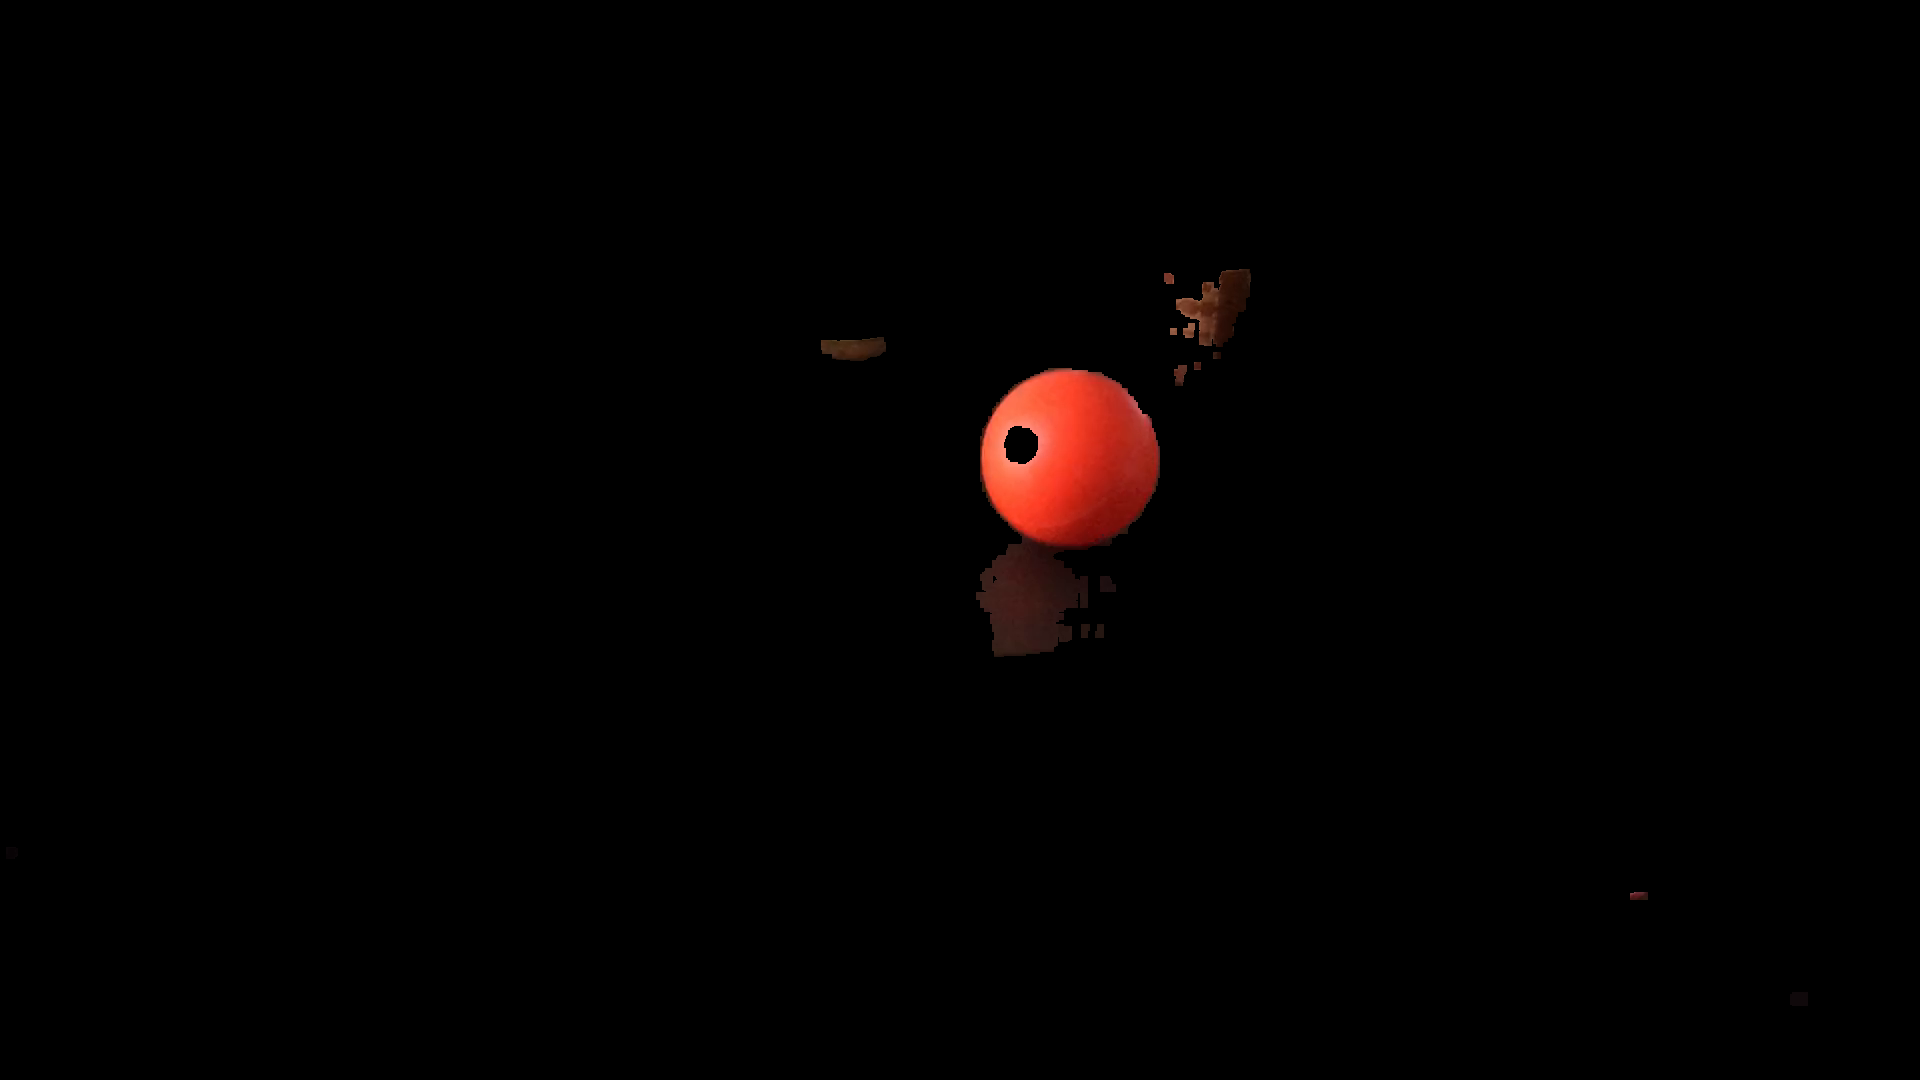Ball: (978, 367, 1159, 549)
